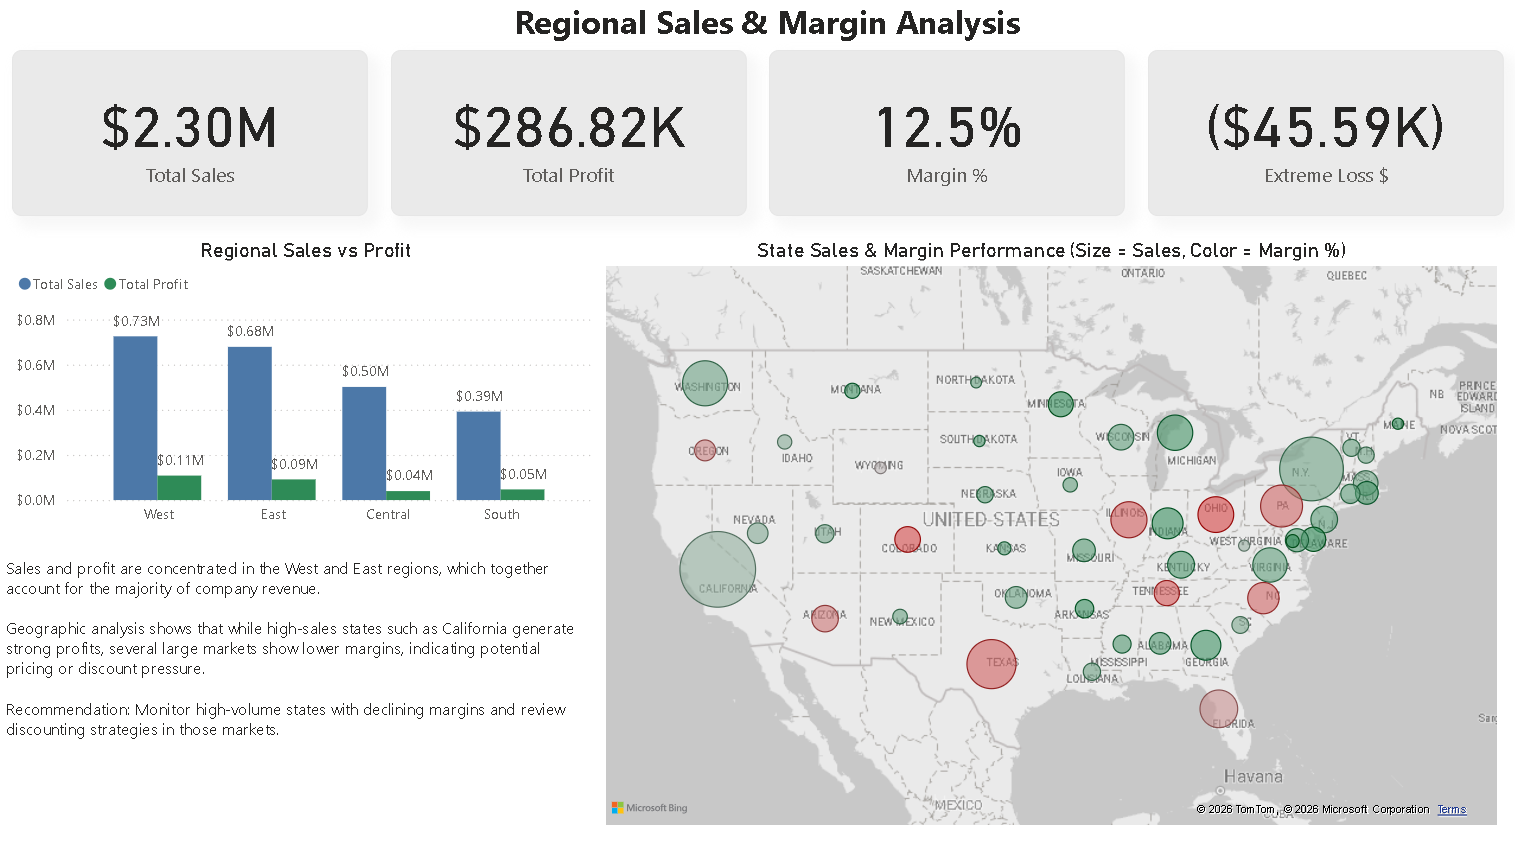

What the dashboard file says about the page in this screenshot:
{"tool":"powerbi","page":{"name":"Regional Sales & Margin Analysis","canvas":[1280,720],"ordinal":1},"visuals":[{"type":"card","fields":{"Values":["_Measures.Extreme Loss $"]},"box":[967.8,48.9,300,140],"z":0},{"type":"card","fields":{"Values":["_Measures.Total Sales"]},"box":[10.5,49.1,300,140],"z":1000},{"type":"card","fields":{"Values":["_Measures.Total Profit"]},"box":[329.6,49.1,300,140],"z":2000},{"type":"card","fields":{"Values":["_Measures.Margin %"]},"box":[648.7,49.1,300,140],"z":3000},{"type":"map","title":"State Sales & Margin Performance (Size = Sales, Color = Margin %)","fields":{"Category":["dim_customer.state"],"Size":["_Measures.Total Sales"]},"box":[506.1,207.1,761.3,499.9],"z":4000},{"type":"clusteredColumnChart","title":"Regional Sales vs Profit","fields":{"Category":["dim_customer.region"],"Y":["_Measures.Total Sales","_Measures.Total Profit"]},"box":[10.5,207.1,495.7,249.9],"z":5000},{"type":"textbox","box":[0,471.2,494.7,235.6],"z":6000},{"type":"textbox","box":[293.6,0,706.4,50.9],"z":7000}]}

Visuals, with their boxes in screenshot pixels (x1, y1, x2, y2), scaled from the page's 1280x720 canvas onto the 1515x843 screenshot:
card - _Measures.Extreme Loss $: bbox(1145, 57, 1501, 221)
card - _Measures.Total Sales: bbox(12, 57, 368, 221)
card - _Measures.Total Profit: bbox(390, 57, 745, 221)
card - _Measures.Margin %: bbox(768, 57, 1123, 221)
"State Sales & Margin Performance (Size = Sales, Color = Margin %)" map: bbox(599, 242, 1500, 828)
"Regional Sales vs Profit" clusteredColumnChart: bbox(12, 242, 599, 535)
textbox: bbox(0, 552, 586, 828)
textbox: bbox(348, 0, 1184, 60)
